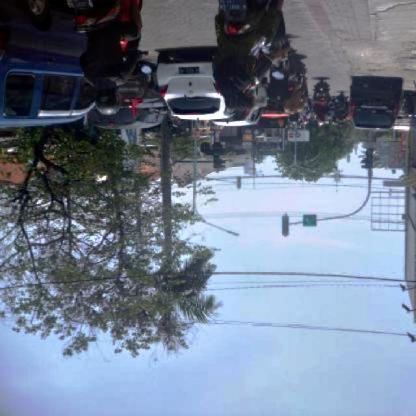Traffic Light -Green-: (280, 215, 290, 236), (364, 148, 374, 168), (212, 149, 220, 169)
